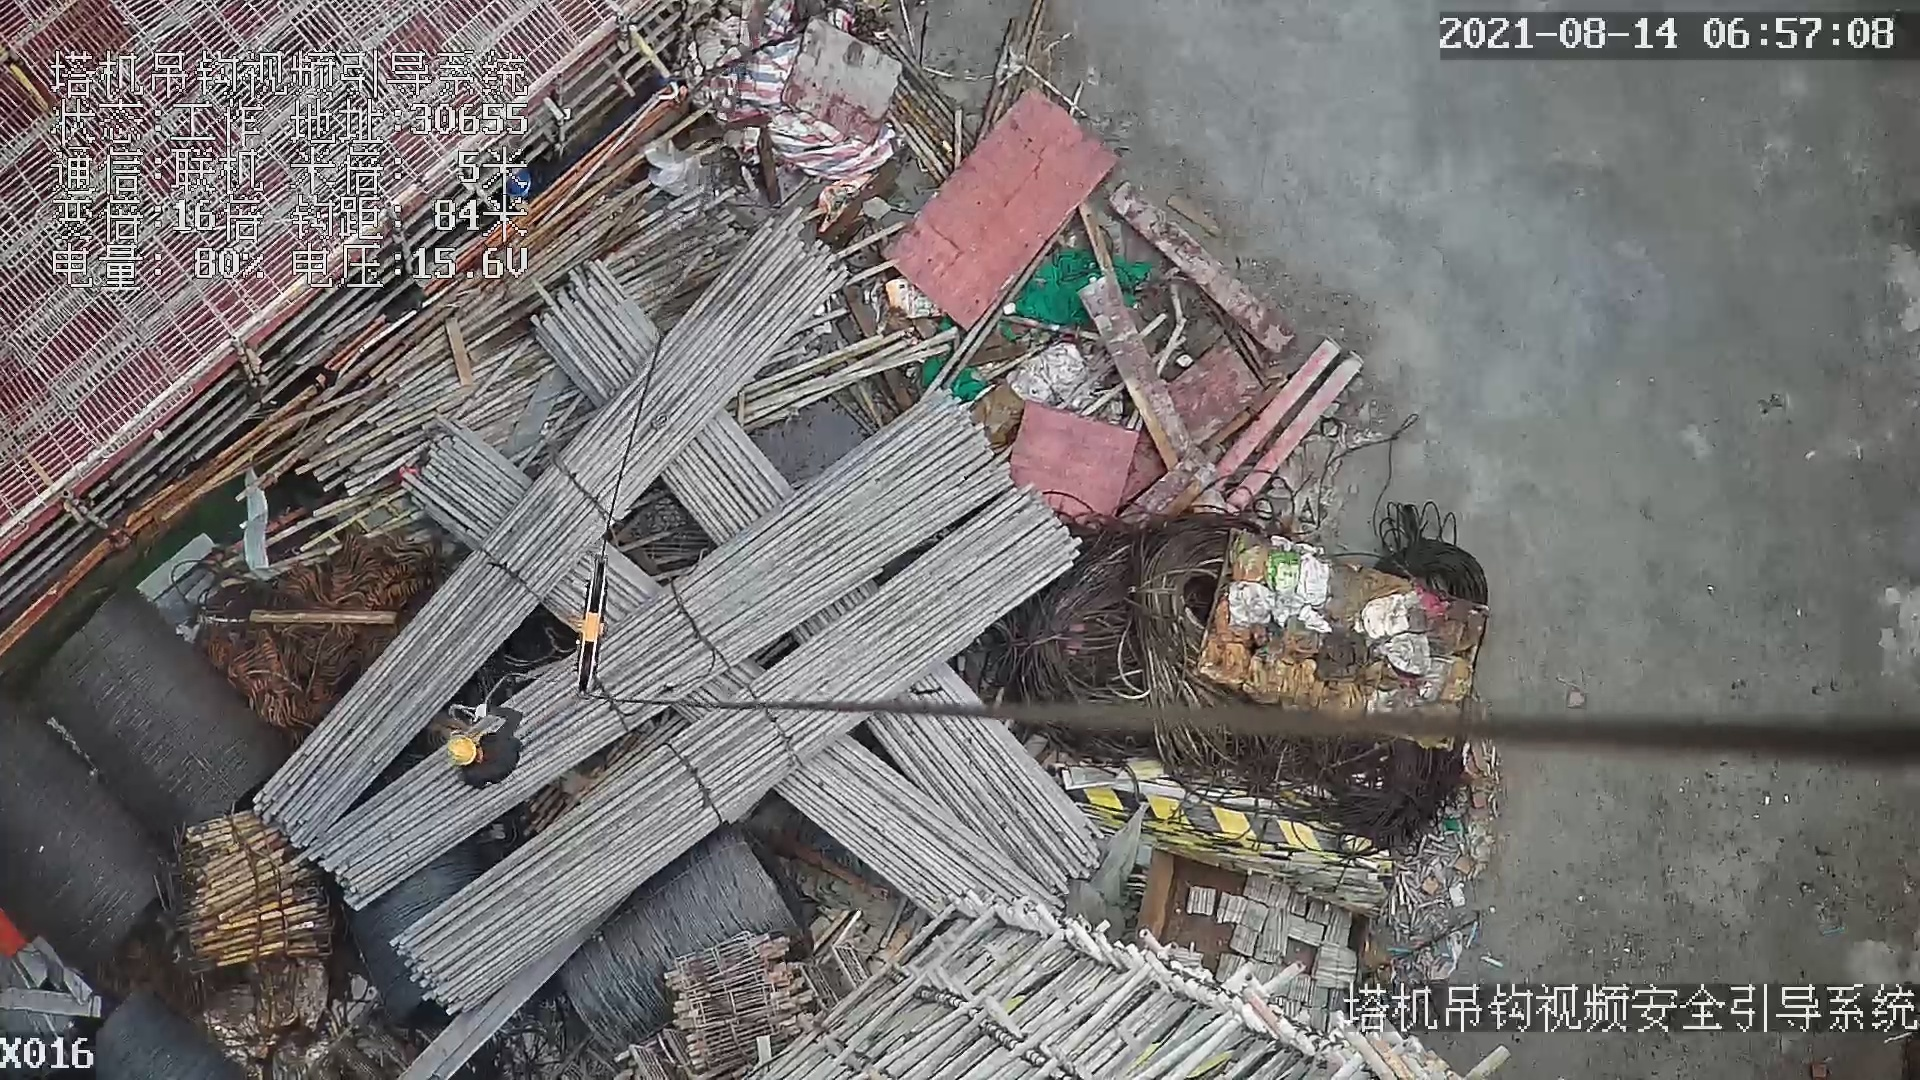helmet: (446, 735, 476, 766)
hook: (567, 560, 617, 699)
person: (447, 699, 524, 790)
rebar: (252, 219, 847, 854), (306, 385, 1016, 911), (394, 493, 1086, 1010), (856, 660, 1106, 893), (770, 738, 1069, 930)
wood: (177, 811, 331, 969)
